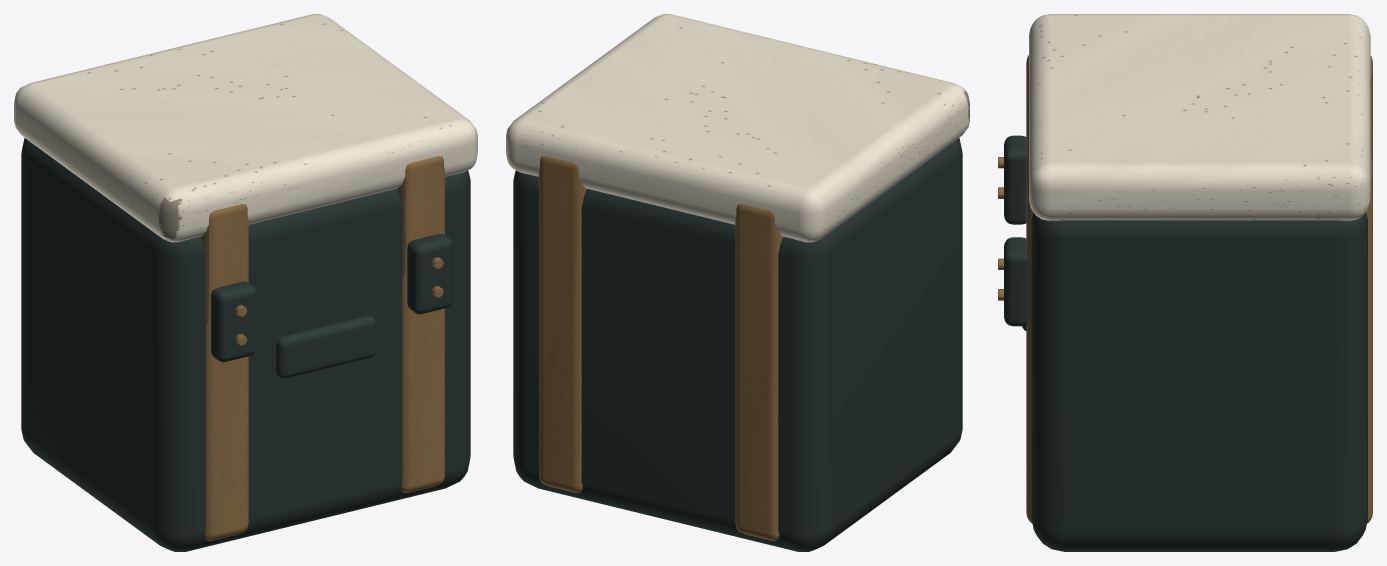
The model's file is prop_cargo_crate.glb.
3 views of the same model, side by side, from view 1: azimuth 30°, elevation 25°; view 2: azimuth 150°, elevation 25°; view 3: azimuth 270°, elevation 25° (orthographic). The views are drawn at different scales.
Parts seen in each view (by area): view 1: prop_cargo_crate_dark, Crate lid, prop_cargo_crate_brass; view 2: prop_cargo_crate_dark, Crate lid, prop_cargo_crate_brass; view 3: prop_cargo_crate_dark, Crate lid, prop_cargo_crate_brass.
Part boxes in pixels (x1=…): prop_cargo_crate_dark: x1=21, y1=138, x2=470, y2=551; Crate lid: x1=14, y1=14, x2=477, y2=242; prop_cargo_crate_brass: x1=200, y1=156, x2=445, y2=540; prop_cargo_crate_dark: x1=513, y1=138, x2=962, y2=551; Crate lid: x1=506, y1=14, x2=969, y2=242; prop_cargo_crate_brass: x1=538, y1=156, x2=783, y2=540; prop_cargo_crate_dark: x1=1004, y1=135, x2=1367, y2=551; Crate lid: x1=1029, y1=14, x2=1370, y2=220; prop_cargo_crate_brass: x1=998, y1=55, x2=1372, y2=523.
Size of the model in its own units: 0.81 by 0.9 by 0.779.
4 materials, 3 textured.
